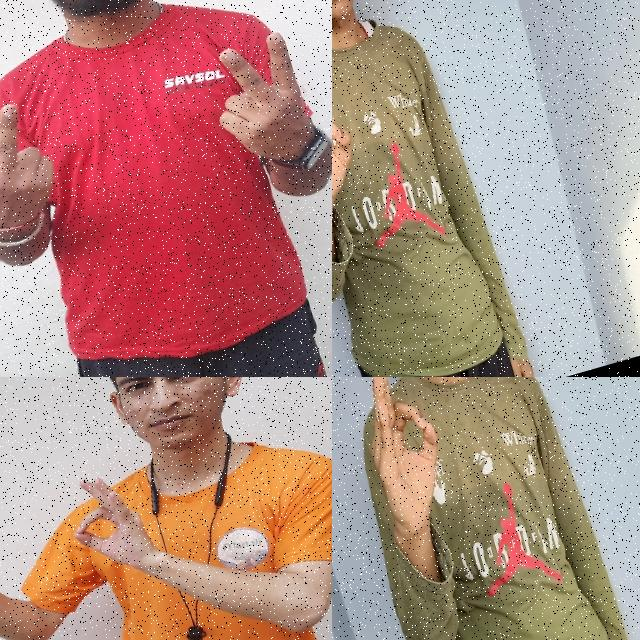Okay: (332, 377, 473, 534), (50, 458, 174, 599), (332, 39, 379, 235)
Reversed Victory: (187, 17, 332, 188), (0, 87, 75, 253)
